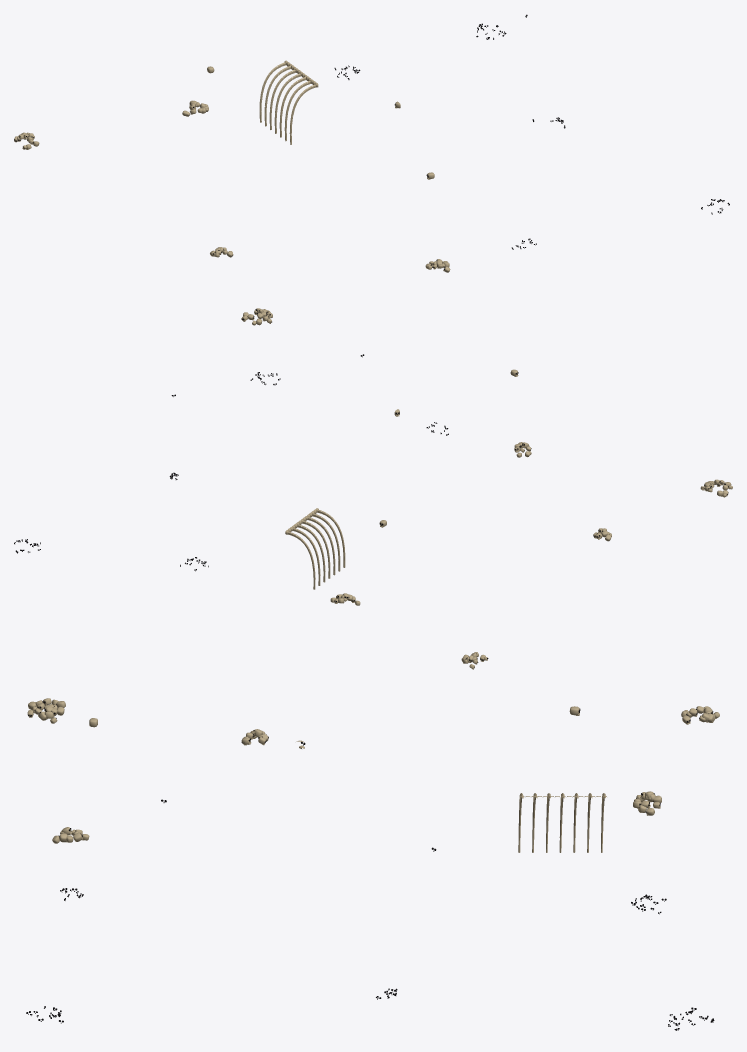
File: tb_hellx_p1.glb
The picture shows the model from 3 angles, top to bottom: view 1: azimuth 30°, elevation 25°; view 2: azimuth 150°, elevation 25°; view 3: azimuth 270°, elevation 25°; orthographic projection. The views are drawn at different scales.
Parts seen in each view (by area): view 1: tb_hellx_p1; view 2: tb_hellx_p1; view 3: tb_hellx_p1.
Part boxes in pixels (x1,y1,x2,y2): tb_hellx_p1: (14,14,729,325); tb_hellx_p1: (14,354,732,669); tb_hellx_p1: (26,698,719,1030).
Bounding box in the file's own units: 69.19 × 13.63 × 62.76.
